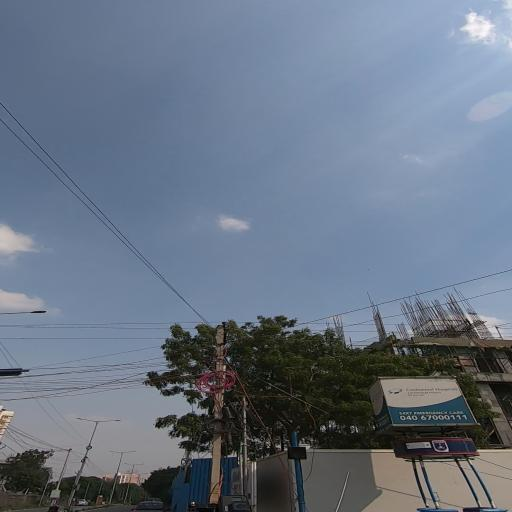Street_light: (98, 416, 128, 425), (73, 415, 98, 424), (106, 449, 122, 456), (126, 448, 138, 456), (136, 460, 146, 466), (123, 461, 134, 466)
